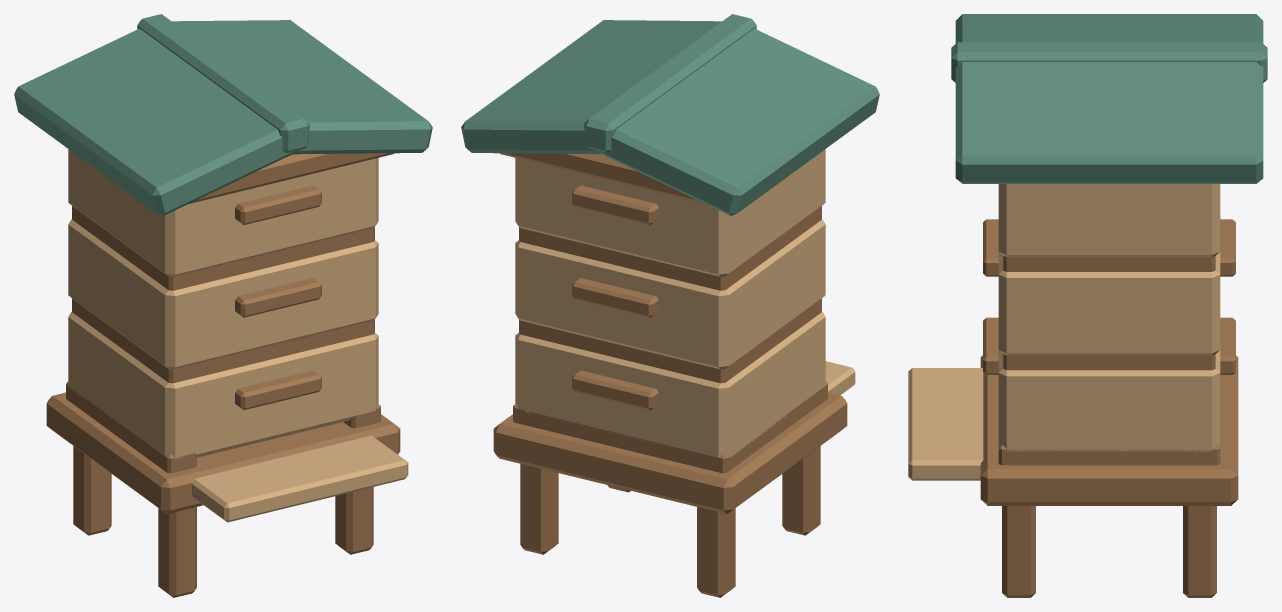
The picture shows the model from 3 angles, left to right: view 1: azimuth 30°, elevation 25°; view 2: azimuth 150°, elevation 25°; view 3: azimuth 270°, elevation 25°; orthographic projection. The views are drawn at different scales.
Visible parts, largest first — view 1: village-beehive-01; view 2: village-beehive-01; view 3: village-beehive-01.
Part boxes in pixels (x1,y1,x2,y2): village-beehive-01: (14,14,432,597); village-beehive-01: (461,14,879,597); village-beehive-01: (908,14,1267,597).
Size of the model in its own units: 0.7613 by 1.22 by 0.795.
